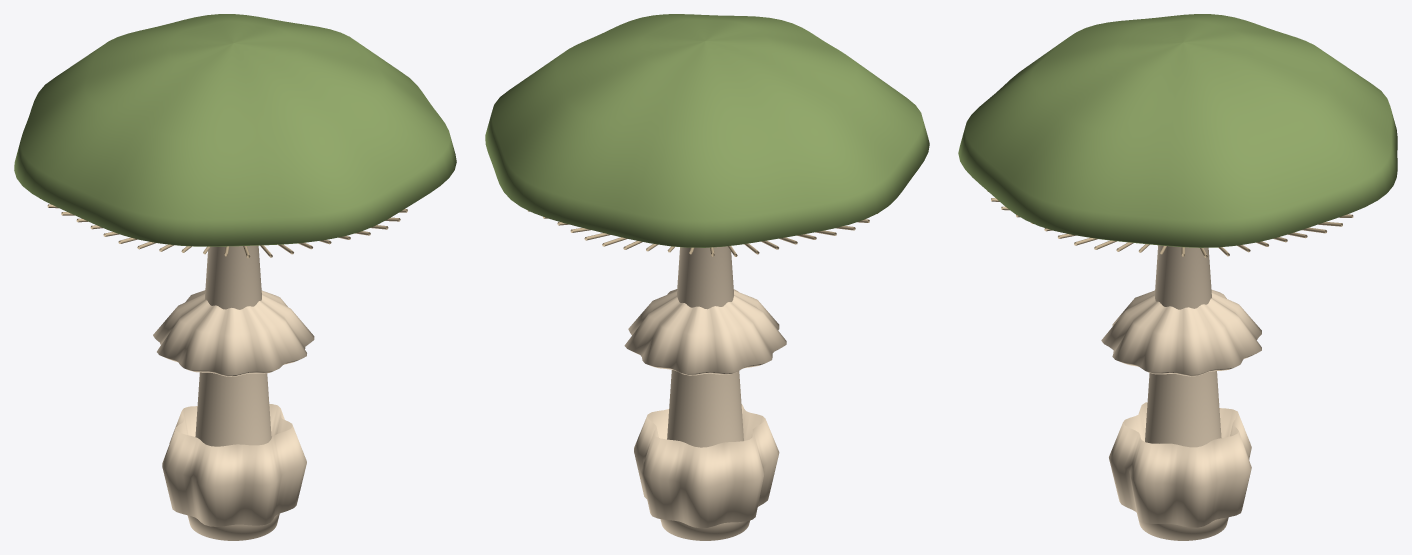
The model's file is deathcap.glb.
3 views of the same model, side by side, from view 1: azimuth 30°, elevation 25°; view 2: azimuth 150°, elevation 25°; view 3: azimuth 270°, elevation 25° (orthographic).
Visible parts, largest first — view 1: deathcap; view 2: deathcap; view 3: deathcap.
Boxes of the visible parts, x1,y1,x2,y2 form: deathcap: (14, 14, 456, 540); deathcap: (485, 14, 929, 540); deathcap: (958, 14, 1397, 540).
Bounding box in the file's own units: 0.838 × 1 × 0.8298.
